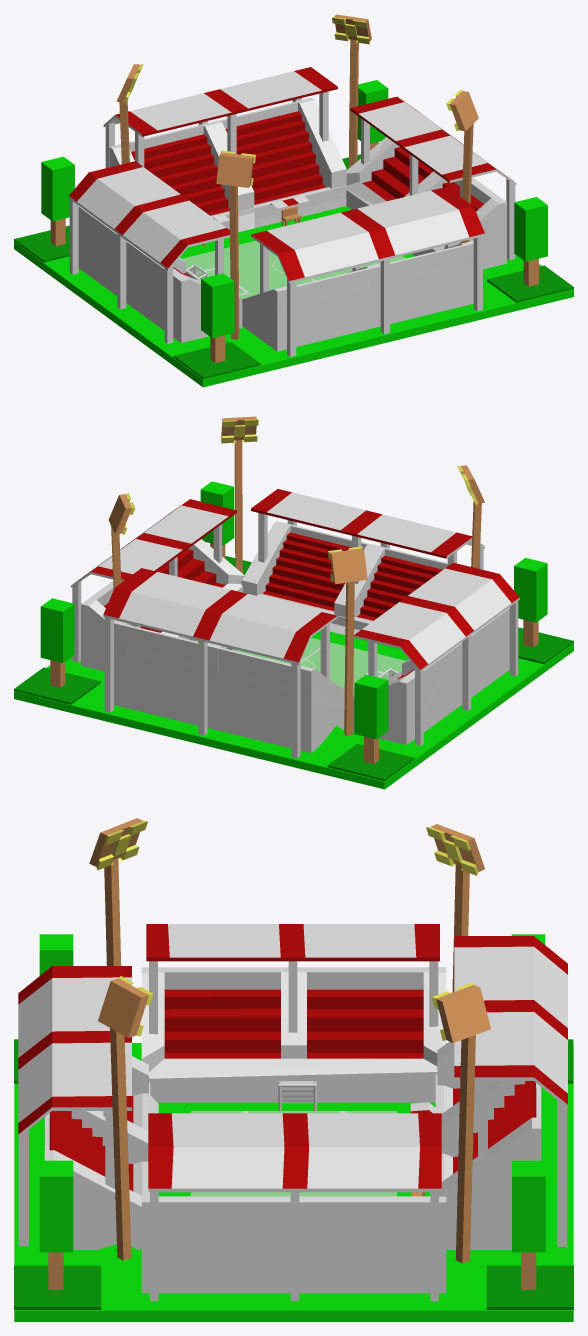
The model's file is Maya_ASM_.fbx.
3 views of the same model, one above another, from view 1: azimuth 30°, elevation 25°; view 2: azimuth 150°, elevation 25°; view 3: azimuth 270°, elevation 25° (orthographic). The views are drawn at different scales.
Visible parts, largest first — view 1: pCube18; view 2: pCube18; view 3: pCube18.
Boxes of the visible parts, left/top/right/bottom form: pCube18: left=14, top=14, right=573, bottom=387; pCube18: left=14, top=416, right=573, bottom=789; pCube18: left=14, top=818, right=573, bottom=1321.
Bounding box in the file's own units: 62.85 × 30.68 × 55.59.
